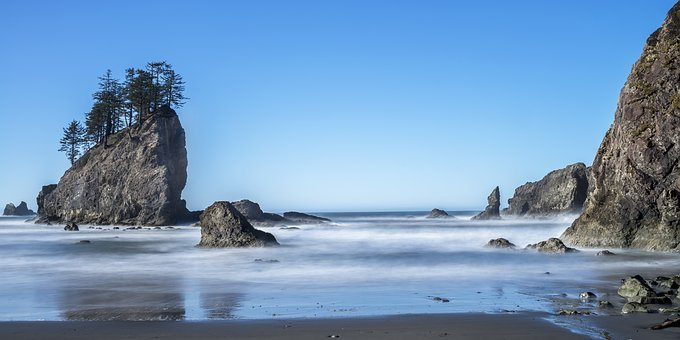sea: (7, 212, 674, 338)
sky: (185, 13, 579, 212)
stone: (568, 25, 680, 251), (42, 116, 186, 227)
tree: (50, 78, 130, 157)
